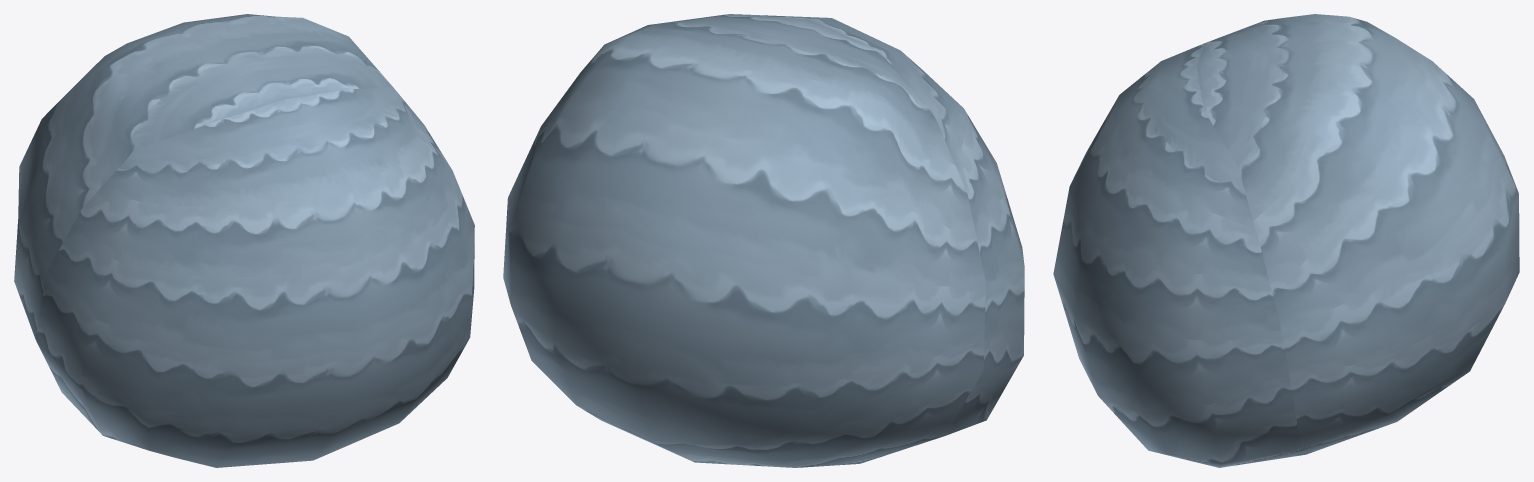
The model's file is Head.fbx.
The picture shows the model from 3 angles, left to right: view 1: azimuth 30°, elevation 25°; view 2: azimuth 150°, elevation 25°; view 3: azimuth 270°, elevation 25°; orthographic projection. The views are drawn at different scales.
Visible parts, largest first — view 1: Head; view 2: Head; view 3: Head.
Boxes of the visible parts, <box> form: Head: <box>14,14,474,467</box>; Head: <box>503,14,1024,467</box>; Head: <box>1053,14,1519,467</box>.
Bounding box in the file's own units: 177 × 156 × 173.
